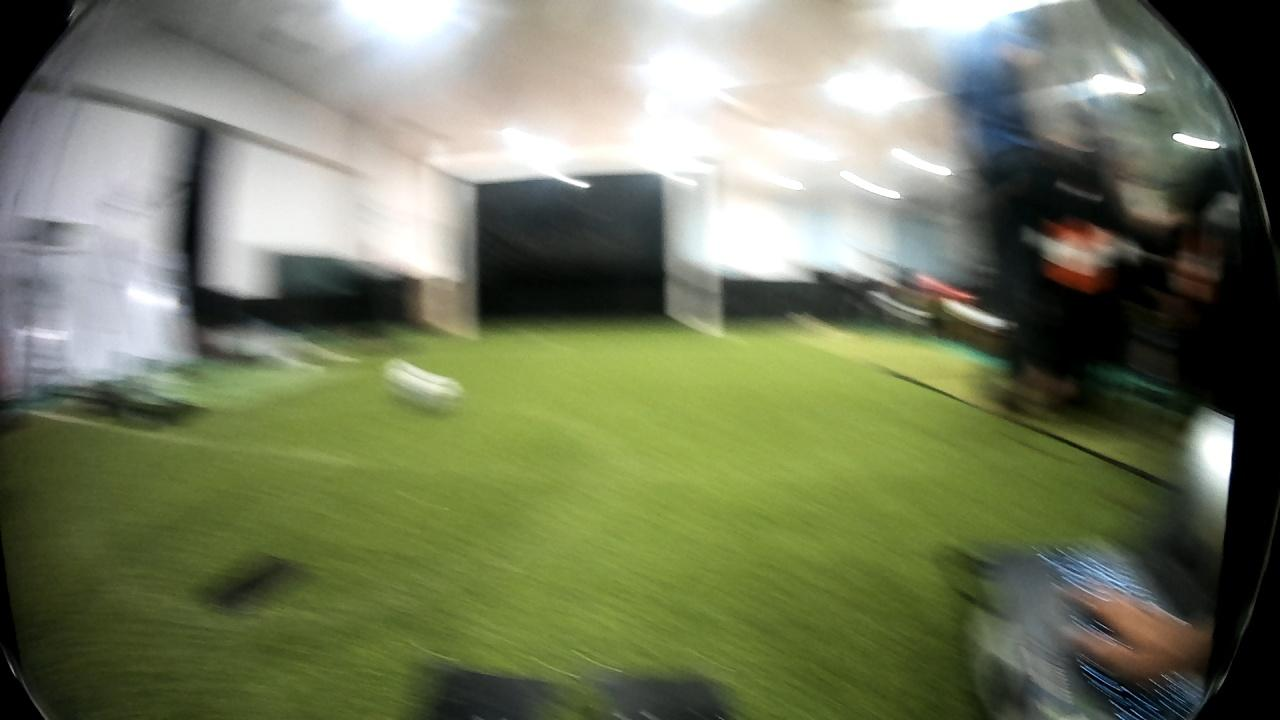ball: (383, 357, 467, 420)
